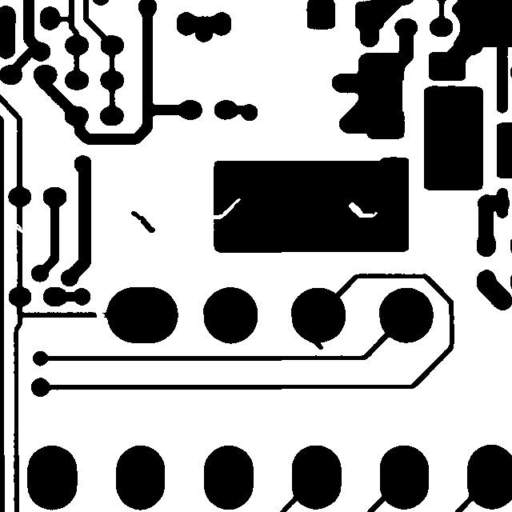copper: (123, 203, 162, 240)
mousebite: (205, 190, 248, 226)
open: (7, 216, 31, 241), (88, 302, 112, 326)
pin-hole: (341, 194, 385, 225)
spur: (301, 330, 330, 357)
